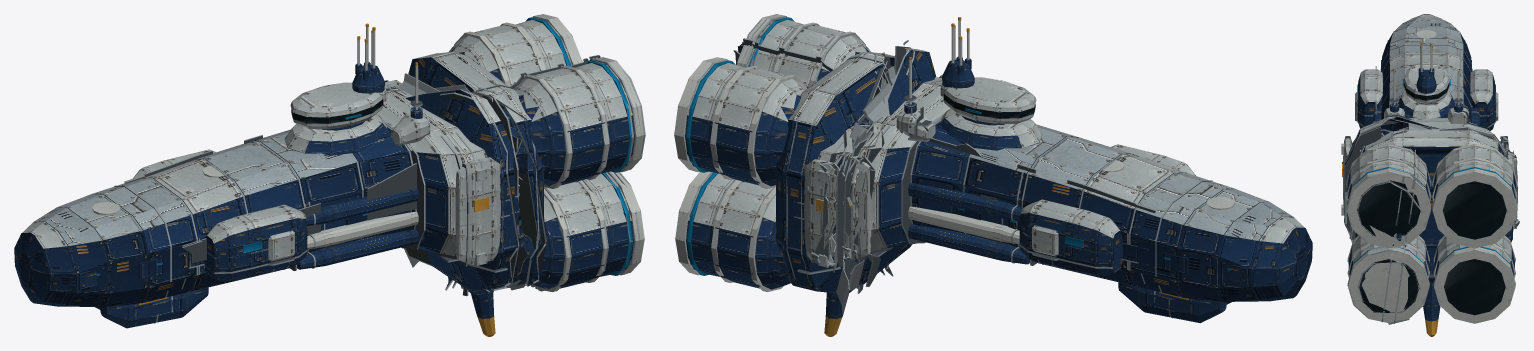
Rendered from concord-cruiser-wreck-v4.glb.
3 views of the same model, side by side, from view 1: azimuth 30°, elevation 25°; view 2: azimuth 150°, elevation 25°; view 3: azimuth 270°, elevation 25° (orthographic). The views are drawn at different scales.
Visible parts, largest first — view 1: Cruiser wreck command hull, Cruiser wreck detached engine pod, Cruiser wreck ejected structure 1, Cruiser wreck engine cluster, Cruiser wreck ejected structure 2, Cruiser wreck command tower; view 2: Cruiser wreck command hull, Cruiser wreck engine cluster, Cruiser wreck ejected structure 1, Cruiser wreck command tower, Cruiser wreck ejected structure 2, Cruiser wreck detached engine pod; view 3: Cruiser wreck engine cluster, Cruiser wreck detached engine pod, Cruiser wreck command hull, Cruiser wreck command tower, Cruiser wreck ejected structure 1, Cruiser wreck ejected structure 2.
Boxes of the visible parts, <box> form: Cruiser wreck command hull: <box>14,30,524,328</box>; Cruiser wreck detached engine pod: <box>470,57,645,291</box>; Cruiser wreck ejected structure 1: <box>129,134,312,242</box>; Cruiser wreck engine cluster: <box>384,14,601,336</box>; Cruiser wreck ejected structure 2: <box>279,80,470,201</box>; Cruiser wreck command tower: <box>290,23,412,145</box>; Cruiser wreck command hull: <box>831,25,1312,323</box>; Cruiser wreck engine cluster: <box>674,34,887,336</box>; Cruiser wreck ejected structure 1: <box>1010,131,1203,206</box>; Cruiser wreck command tower: <box>915,17,1036,140</box>; Cruiser wreck ejected structure 2: <box>870,57,1063,157</box>; Cruiser wreck detached engine pod: <box>737,14,894,88</box>; Cruiser wreck engine cluster: <box>1388,122,1519,336</box>; Cruiser wreck detached engine pod: <box>1346,129,1409,322</box>; Cruiser wreck command hull: <box>1341,14,1509,235</box>; Cruiser wreck command tower: <box>1399,41,1453,117</box>; Cruiser wreck ejected structure 1: <box>1382,47,1465,106</box>; Cruiser wreck ejected structure 2: <box>1382,89,1454,136</box>.
Bounding box in the file's own units: 2.36 × 1.34 × 0.8648.
Materials: 3 (1 with a texture image).
